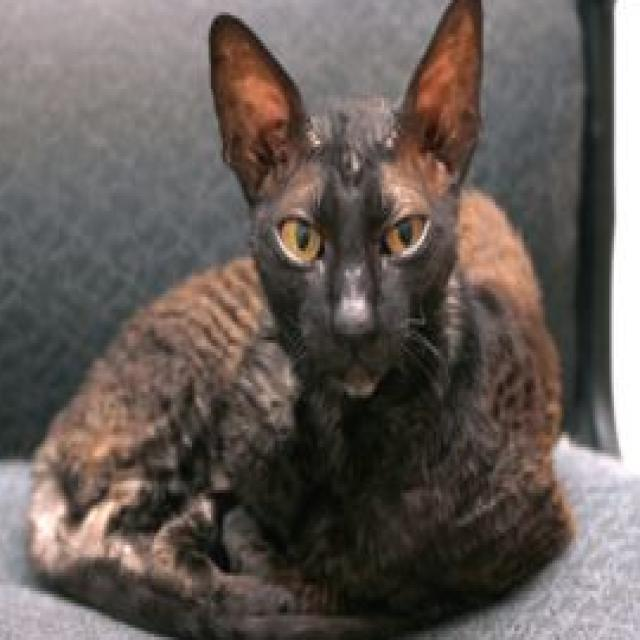Cornish Rex: (19, 0, 578, 640)
